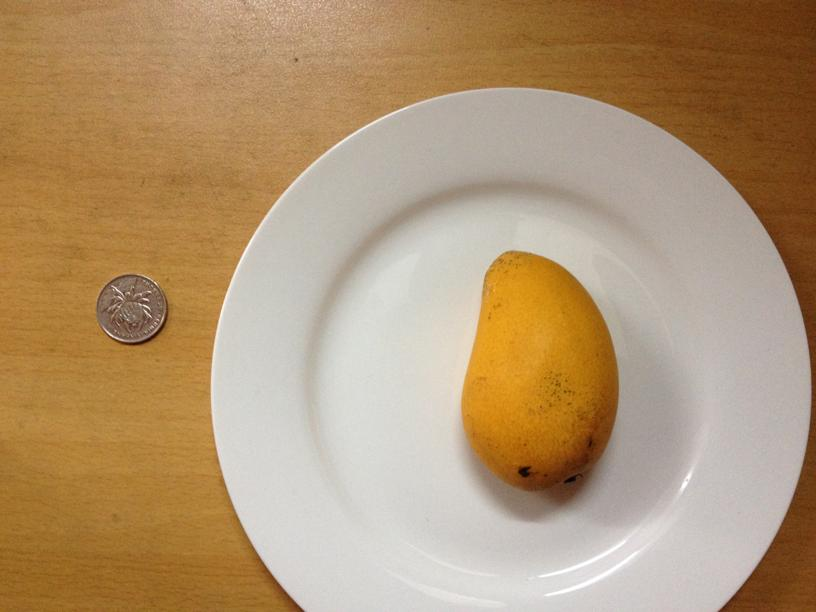coin: (93, 272, 169, 343)
mango: (467, 248, 620, 491)
